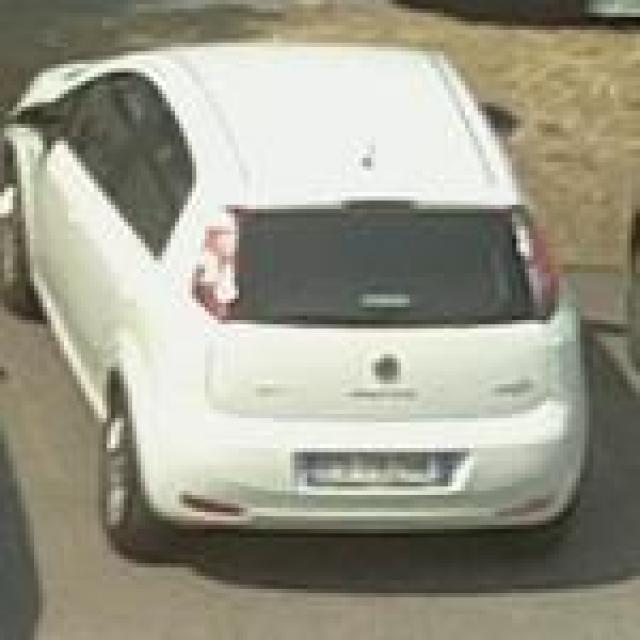cars-sUYr: (0, 31, 584, 574), (584, 567, 596, 574)
